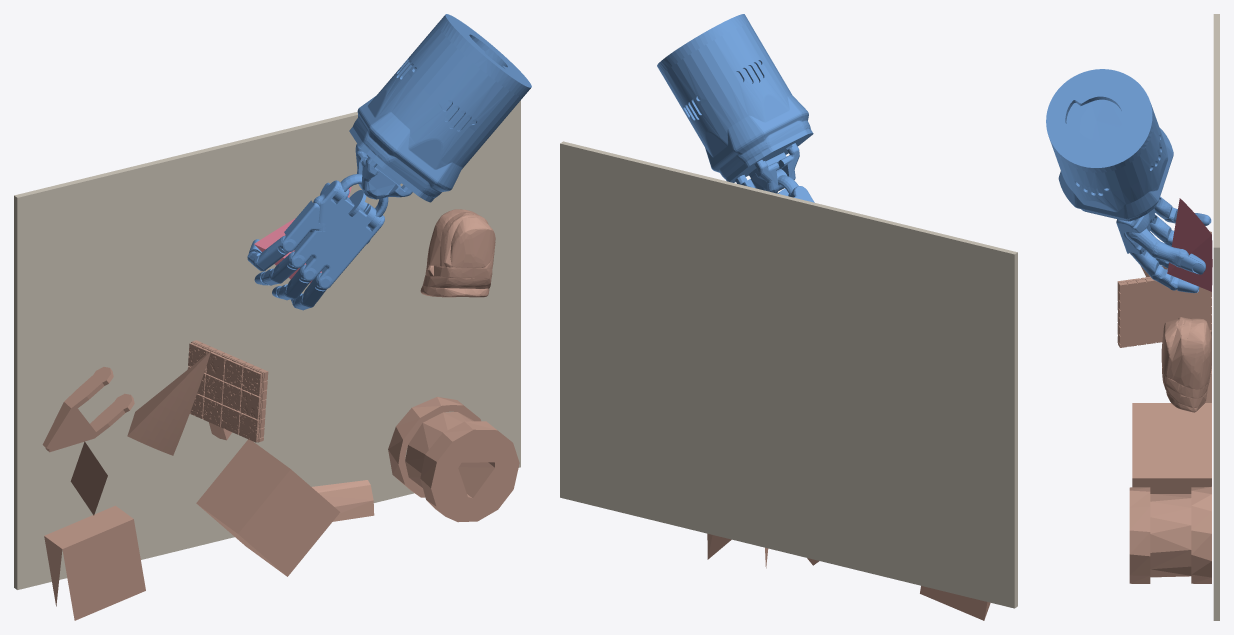
3 views of the same model, side by side, from view 1: azimuth 30°, elevation 25°; view 2: azimuth 150°, elevation 25°; view 3: azimuth 270°, elevation 25° (orthographic). The views are drawn at different scales.
Visible parts, largest first — view 1: environment, hand, obstacle_004, obstacle_000, obstacle_008, obstacle_001, obstacle_006, obstacle_003, obstacle_009, obstacle_007, obstacle_002; view 2: environment, hand, obstacle_008; view 3: hand, obstacle_004, obstacle_000, obstacle_001, environment, obstacle_006, world.
Part boxes in pixels (x1,y1,x2,y2): environment: (14,100,520,589); hand: (247,14,531,310); obstacle_004: (388,396,519,522); obstacle_000: (196,439,340,576); obstacle_008: (44,505,145,620); obstacle_001: (187,340,268,442); obstacle_006: (420,209,495,297); obstacle_003: (127,351,211,455); obstacle_009: (42,367,134,452); obstacle_007: (312,480,374,521); obstacle_002: (70,441,107,515); environment: (560,141,1017,608); hand: (657,14,814,202); obstacle_008: (920,586,990,620); hand: (1046,69,1211,293); obstacle_004: (1129,487,1211,583); obstacle_000: (1132,403,1211,493); obstacle_001: (1117,276,1211,347); environment: (1213,14,1219,620); obstacle_006: (1161,317,1211,412); world: (1167,198,1212,291).
Bounding box in the file's own units: 0.695 × 0.7265 × 0.2184.
